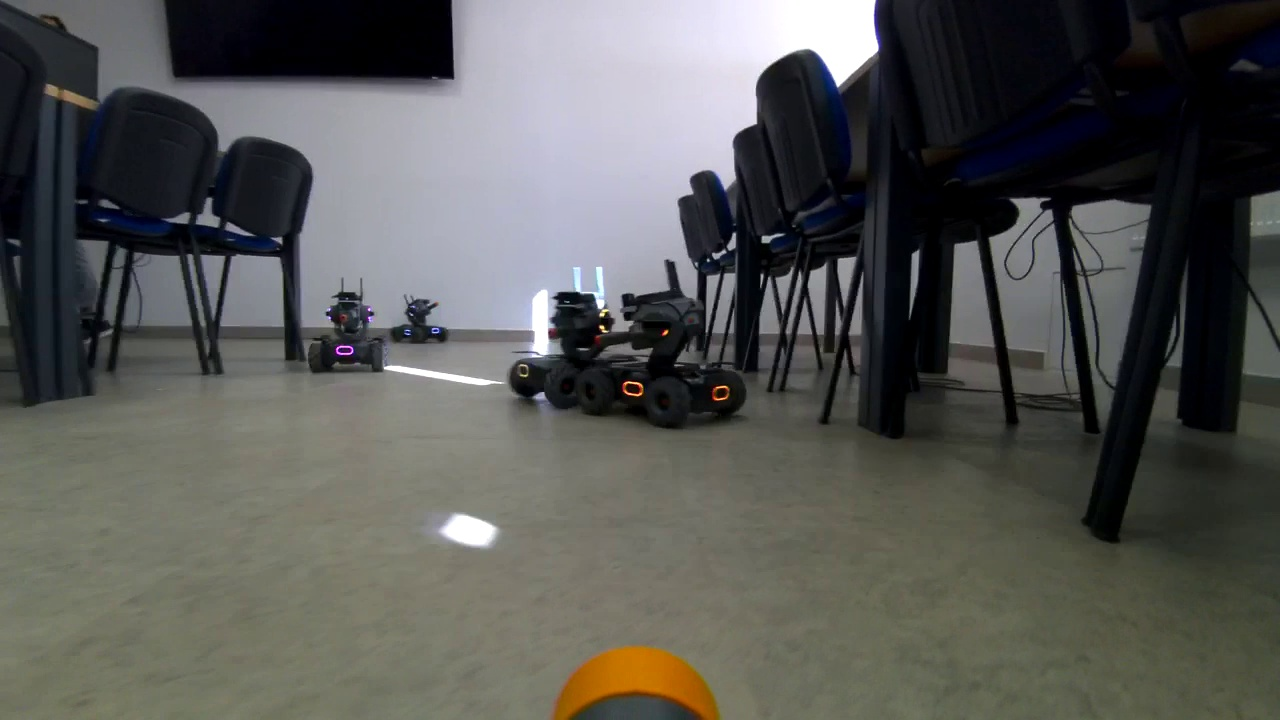robot: (581, 290, 754, 420), (503, 286, 642, 395), (308, 283, 398, 379), (388, 285, 450, 347)
